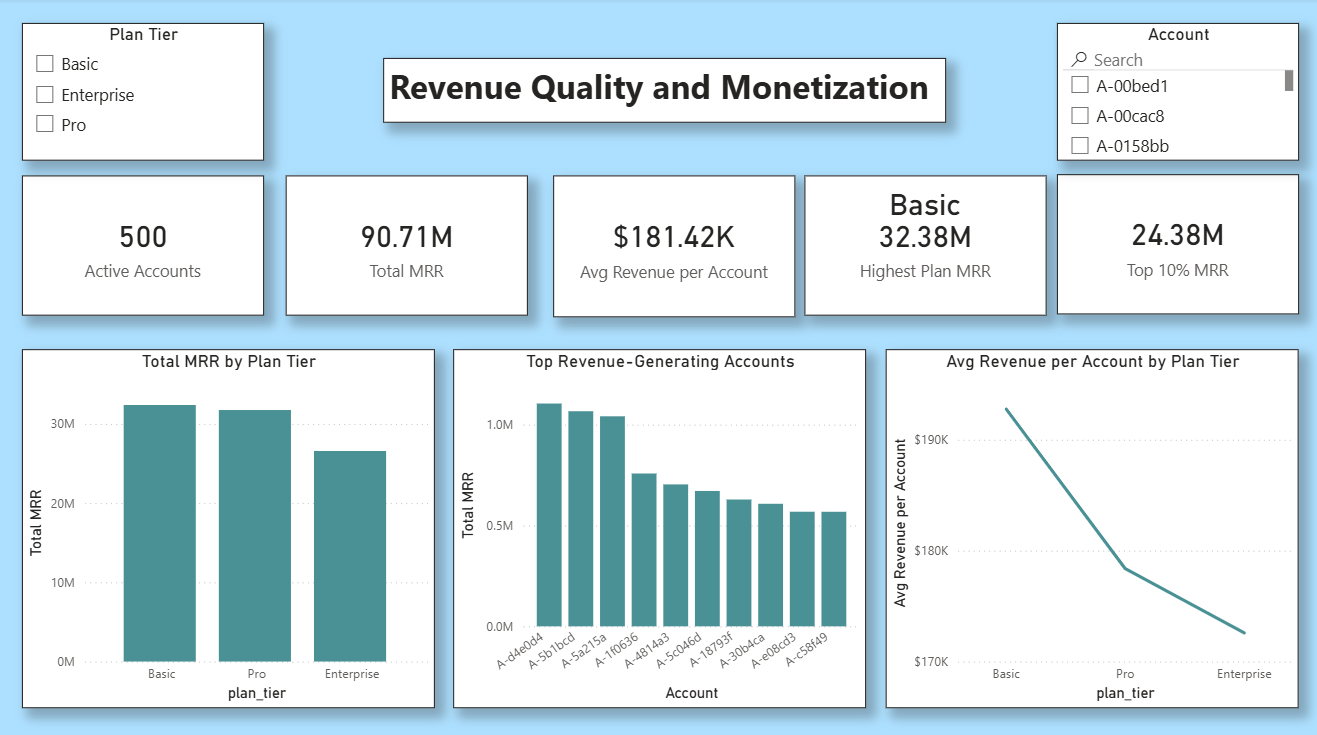

Layout of this report page (visuals, bound fields, positions):
{"tool":"powerbi","page":{"name":"Page 3","canvas":[1280,720],"ordinal":2},"visuals":[{"type":"card","fields":{"Values":["clean fact_accounts.Total MRR"]},"box":[250.9,106.2,224.4,113.4],"z":0},{"type":"card","fields":{"Values":["clean accounts.Avg Revenue per Account"]},"box":[475.3,106.2,260.6,113.4],"z":1000},{"type":"card","fields":{"Values":["clean fact_accounts.Active Accounts"]},"box":[15.7,106.2,235.3,113.4],"z":2000},{"type":"card","fields":{"Values":["clean fact_accounts.Highest Plan MRR"]},"box":[735.9,106.2,265.4,113.4],"z":3000},{"type":"card","fields":{"Values":["clean fact_accounts.Top MRR Plan"]},"box":[751.6,82,234,80.8],"z":4000},{"type":"pieChart","title":"Total MRR by Plan Tier","fields":{"Category":["clean fact_accounts.plan_tier"],"Y":["clean fact_accounts.Total MRR"]},"box":[15.7,248.5,368,427.1],"z":5000},{"type":"columnChart","title":"Avg Revenue per Account by Plan Tier","fields":{"Category":["clean fact_accounts.plan_tier"],"Y":["clean accounts.Avg Revenue per Account"]},"box":[396.9,248.5,369.2,427.1],"z":6000},{"type":"card","fields":{"Values":["clean fact_accounts.Top 10% MRR"]},"box":[1001.3,106.2,263,113.4],"z":7000},{"type":"columnChart","title":"Top Revenue-Generating Accounts","fields":{"Category":["clean fact_accounts.account_id"],"Y":["clean fact_accounts.Total MRR"],"Series":["clean fact_accounts.plan_tier"]},"box":[784.2,248.5,358.3,427.1],"z":8000},{"type":"slicer","title":"Plan Tier","fields":{"Values":["clean fact_accounts.plan_tier"]},"box":[1154.6,452.4,109.8,223.2],"z":9000},{"type":"textbox","box":[396.9,18.1,485,62.7],"z":10000},{"type":"slicer","title":"Account","fields":{"Values":["clean fact_accounts.account_id"]},"box":[1154.6,248.5,109.8,177.3],"z":11000}]}

Visuals, with their boxes in screenshot pixels (x1, y1, x2, y2), scaled from the page's 1280x720 canvas onto the 1317x735 screenshot:
card - clean fact_accounts.Total MRR: <box>258,108,489,224</box>
card - clean accounts.Avg Revenue per Account: <box>489,108,757,224</box>
card - clean fact_accounts.Active Accounts: <box>16,108,258,224</box>
card - clean fact_accounts.Highest Plan MRR: <box>757,108,1030,224</box>
card - clean fact_accounts.Top MRR Plan: <box>773,84,1014,166</box>
"Total MRR by Plan Tier" pieChart: <box>16,254,395,690</box>
"Avg Revenue per Account by Plan Tier" columnChart: <box>408,254,788,690</box>
card - clean fact_accounts.Top 10% MRR: <box>1030,108,1301,224</box>
"Top Revenue-Generating Accounts" columnChart: <box>807,254,1176,690</box>
"Plan Tier" slicer: <box>1188,462,1301,690</box>
textbox: <box>408,18,907,82</box>
"Account" slicer: <box>1188,254,1301,435</box>
